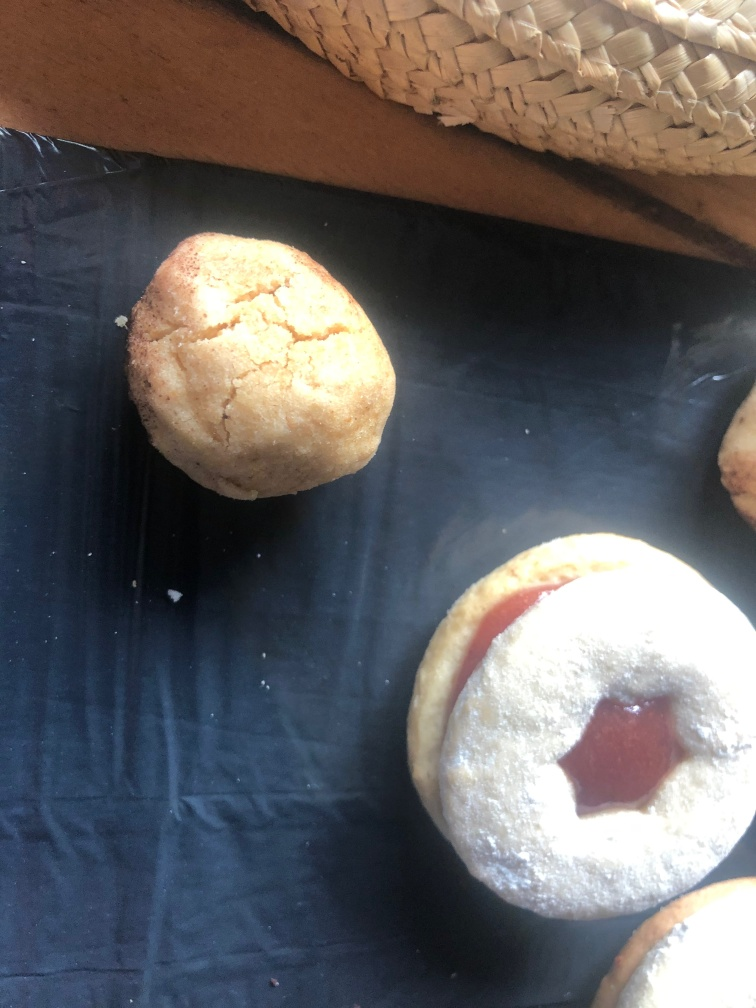christmas shortbread with jam: (407, 527, 755, 910)
snowball: (121, 221, 405, 514)
